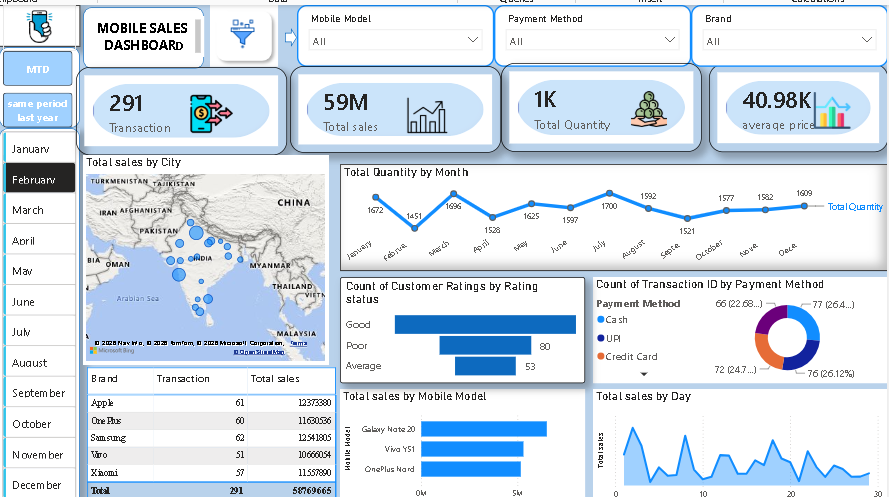

The dashboard page shown, as its layout file describes it:
{"tool":"powerbi","page":{"name":"MTD","canvas":[1280,720],"ordinal":1},"visuals":[{"type":"shape","box":[0,0,116.6,60.5],"z":0},{"type":"group","id":"g1","title":"Group 1","box":[722.9,83.5,289.4,128.2],"z":0,"group":"g7"},{"type":"cardVisual","fields":{"Data":["mobile sales ata.Total Quantity"]},"box":[722.9,83.5,289.4,128.2],"z":0,"group":"g1"},{"type":"group","id":"g2","title":"Group 7","box":[1022.2,85,257.8,126.7],"z":0,"group":"g9"},{"type":"group","id":"g3","title":"Group 1","box":[1022.2,85,257.8,126.7],"z":0,"group":"g2"},{"type":"cardVisual","fields":{"Data":["mobile sales ata.average price"]},"box":[1022.2,85,257.8,126.7],"z":0,"group":"g3"},{"type":"group","id":"g4","title":"Group 1","box":[419,87.4,303.8,125.3],"z":0,"group":"g6"},{"type":"cardVisual","fields":{"Data":["mobile sales ata.Total sales"]},"box":[419,87.4,303.8,125.3],"z":0,"group":"g4"},{"type":"cardVisual","fields":{"Data":["mobile sales ata.Transaction"]},"box":[110.9,89.3,303.8,126.7],"z":0,"group":"g5"},{"type":"shape","box":[0,60.5,116.6,116.6],"z":1000},{"type":"image","box":[531.4,122.4,171.4,73.4],"z":1000,"group":"g6"},{"type":"image","box":[889,122.9,94.5,55.1],"z":1000,"group":"g7"},{"type":"image","box":[1168.9,124.9,61.1,53.3],"z":1000,"group":"g9"},{"type":"image","box":[273.9,126.1,64.8,60.5],"z":1000,"group":"g5"},{"type":"slicer","fields":{"Values":["mobile sales ata.Mobile Model"]},"box":[429.1,0,283.7,89.3],"z":2000},{"type":"slicer","fields":{"Values":["mobile sales ata.Payment Method"]},"box":[712.8,0,283.7,89.3],"z":3000},{"type":"shape","box":[303.8,0,97.9,89.3],"z":4000},{"type":"shape","box":[411.8,33.1,17.3,27.4],"z":5000},{"type":"shape","box":[121,2.9,174.2,89.3],"z":6000},{"type":"textbox","box":[132.5,15.8,162.7,59],"z":7000},{"type":"image","box":[5.8,0,105.1,66.2],"z":8000},{"type":"image","box":[329.8,8.6,41.8,66.2],"z":9000},{"type":"group","id":"g5","title":"Group 1","box":[110.9,89.3,303.8,126.7],"z":10000},{"type":"group","id":"g6","title":"Group 7","box":[419,87.4,303.8,125.3],"z":11000},{"type":"group","id":"g7","title":"Group 8","box":[722.9,83.5,289.4,128.2],"z":12000},{"type":"group","id":"g8","title":"Group 9","box":[1022.2,85,257.8,128.2],"z":13000},{"type":"slicer","fields":{"Values":["custom-calender.Date.Variation.Date Hierarchy.Year"]},"box":[996.1,0,283.9,89],"z":14000},{"type":"lineChart","fields":{"Y":["mobile sales ata.Total sales","mobile sales ata.MTD"],"Category":["custom-calender.Date.Variation.Date Hierarchy.Year","custom-calender.Date.Variation.Date Hierarchy.Quarter","custom-calender.Date.Variation.Date Hierarchy.Month","custom-calender.Date.Variation.Date Hierarchy.Day"]},"box":[121.5,229.8,1159,480],"z":15000},{"type":"advancedSlicerVisual","fields":{"Values":["custom-calender.Date.Variation.Date Hierarchy.Month"]},"box":[0,178.5,117.1,541.5],"z":16000},{"type":"pageNavigator","box":[5.8,66.2,100.8,110.9],"z":17000},{"type":"group","id":"g9","title":"Group 10","box":[1022.2,85,257.8,128.2],"z":18012,"group":"g8"}]}

Visuals, with their boxes on the page's 1280x720 design canvas (x1, y1, x2, y2). These are canvas units, not pixel positions in the 889x497 screenshot, which may show the page scaled, cropped or inside an application window:
shape: region(0, 0, 117, 60)
"Group 1" group: region(723, 84, 1012, 212)
cardVisual - mobile sales ata.Total Quantity: region(723, 84, 1012, 212)
"Group 7" group: region(1022, 85, 1280, 212)
"Group 1" group: region(1022, 85, 1280, 212)
cardVisual - mobile sales ata.average price: region(1022, 85, 1280, 212)
"Group 1" group: region(419, 87, 723, 213)
cardVisual - mobile sales ata.Total sales: region(419, 87, 723, 213)
cardVisual - mobile sales ata.Transaction: region(111, 89, 415, 216)
shape: region(0, 60, 117, 177)
image: region(531, 122, 703, 196)
image: region(889, 123, 984, 178)
image: region(1169, 125, 1230, 178)
image: region(274, 126, 339, 187)
slicer - mobile sales ata.Mobile Model: region(429, 0, 713, 89)
slicer - mobile sales ata.Payment Method: region(713, 0, 996, 89)
shape: region(304, 0, 402, 89)
shape: region(412, 33, 429, 60)
shape: region(121, 3, 295, 92)
textbox: region(132, 16, 295, 75)
image: region(6, 0, 111, 66)
image: region(330, 9, 372, 75)
"Group 1" group: region(111, 89, 415, 216)
"Group 7" group: region(419, 87, 723, 213)
"Group 8" group: region(723, 84, 1012, 212)
"Group 9" group: region(1022, 85, 1280, 213)
slicer - custom-calender.Date.Variation.Date Hierarchy.Year: region(996, 0, 1280, 89)
lineChart - mobile sales ata.Total sales x mobile sales ata.MTD: region(122, 230, 1280, 710)
advancedSlicerVisual - custom-calender.Date.Variation.Date Hierarchy.Month: region(0, 178, 117, 720)
pageNavigator: region(6, 66, 107, 177)
"Group 10" group: region(1022, 85, 1280, 213)
